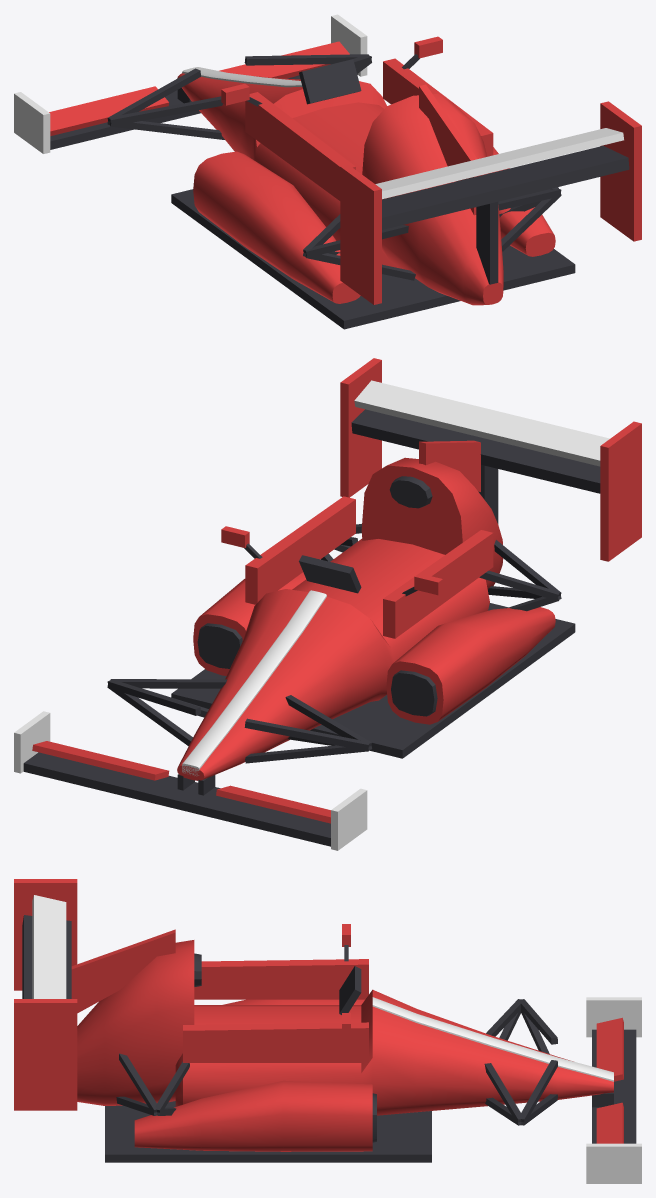
The model's file is Kart_F1.fbx.
3 renders of one model, top to bottom at view 1: azimuth 30°, elevation 25°; view 2: azimuth 150°, elevation 25°; view 3: azimuth 270°, elevation 25°, orthographic. The views are drawn at different scales.
Visible parts, largest first — view 1: F1_Paint, F1_Carbon, F1_Trim; view 2: F1_Paint, F1_Carbon, F1_Trim; view 3: F1_Paint, F1_Carbon, F1_Trim.
Boxes of the visible parts, <box> form: F1_Paint: <box>49,36,641,305</box>; F1_Carbon: <box>50,54,629,329</box>; F1_Trim: <box>14,14,623,199</box>; F1_Paint: <box>32,358,641,823</box>; F1_Carbon: <box>23,409,600,846</box>; F1_Trim: <box>14,380,609,850</box>; F1_Paint: <box>14,879,623,1151</box>; F1_Carbon: <box>22,915,636,1162</box>; F1_Trim: <box>32,895,641,1183</box>.
Size of the model in its own units: 476 by 265 by 845.
